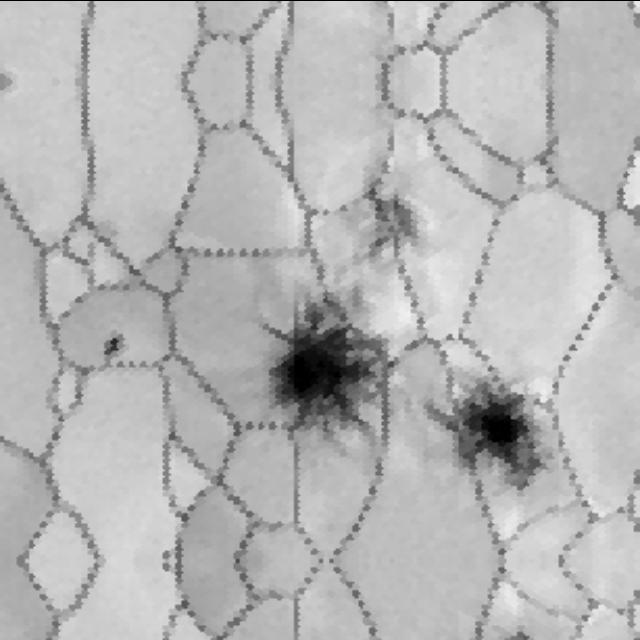good_void: (252, 284, 406, 455), (413, 347, 564, 514), (346, 171, 433, 264), (90, 320, 134, 364), (157, 547, 175, 561), (157, 558, 175, 572)
